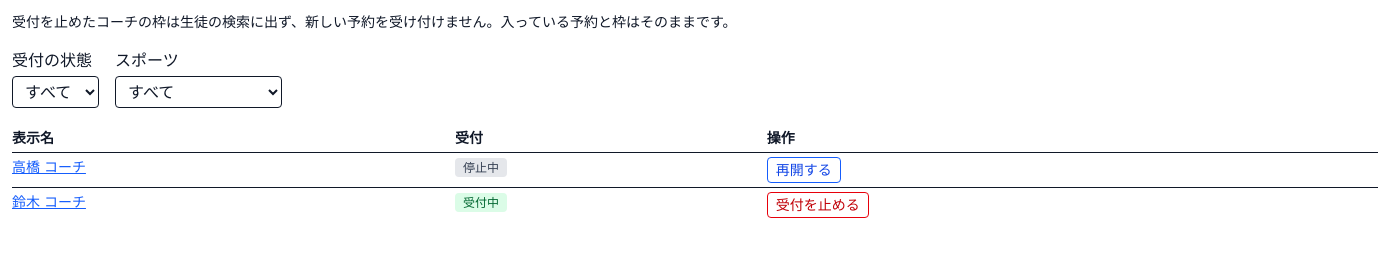
Test case: 本部のコーチの受付 › 止めるのを確定したらそのコーチを送り、応答の状態を行に入れて「再開する」にする。一覧は取り直さない
Click the button "受付を止める" at (818, 205), box x1=767 y1=192 x2=869 y2=218
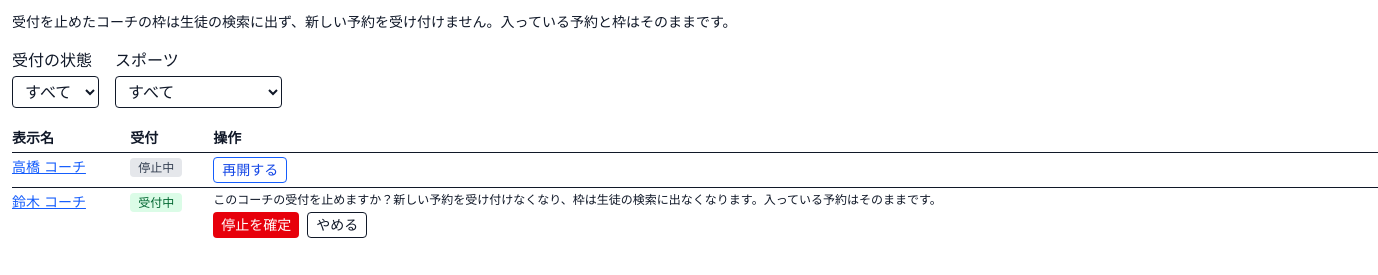
Click the button "停止を確定" at (256, 225), box x1=213 y1=212 x2=299 y2=238
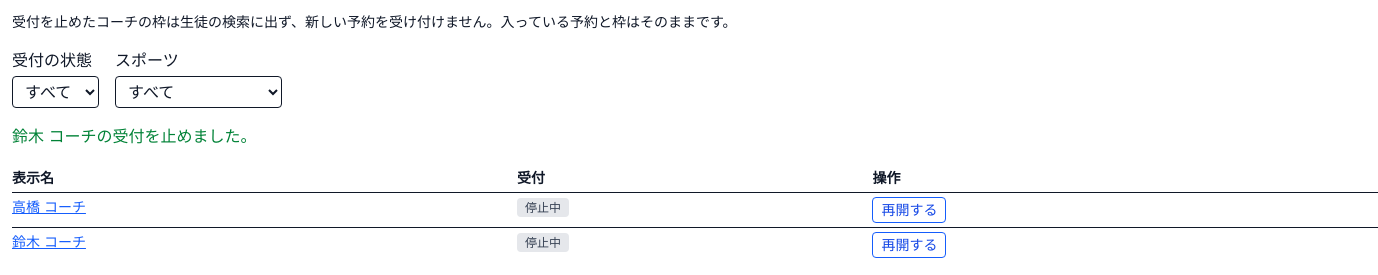
Result: the message reads "鈴木 コーチの受付を止めました。" at x1=12 y1=126 x2=256 y2=146
Result: the 2nd button "再開する" is shown at x1=872 y1=232 x2=946 y2=258
